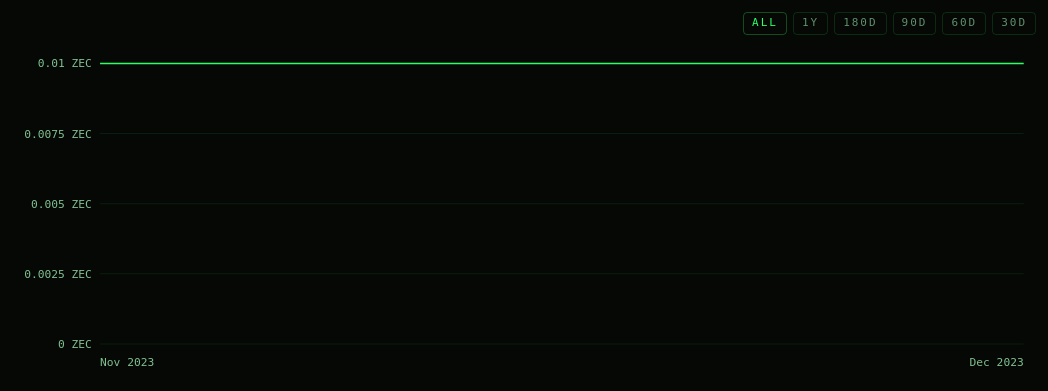
Test: fee-totals coverage › states the blocks a complete period covers, once
Focus the element named "use the arrow keys": (524, 210) [12,46,1036,374]
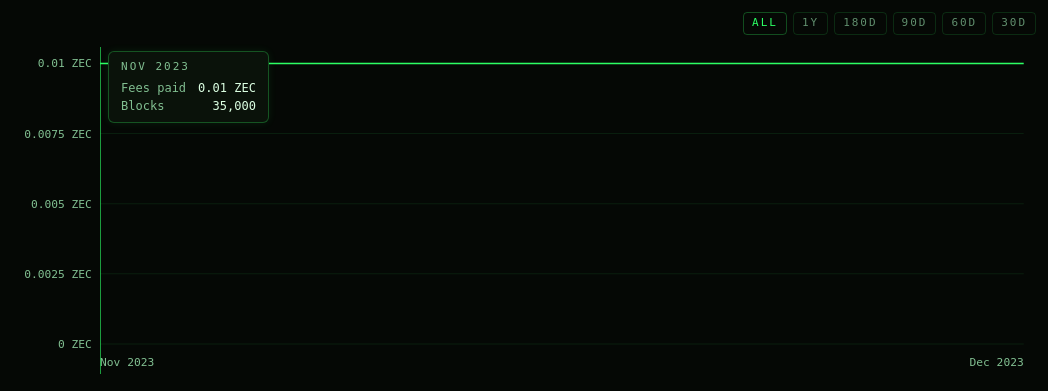
Check: the message shows "Blocks", box [121,99,164,113]
Check: the message shows "35,000", box [212,99,256,113]
